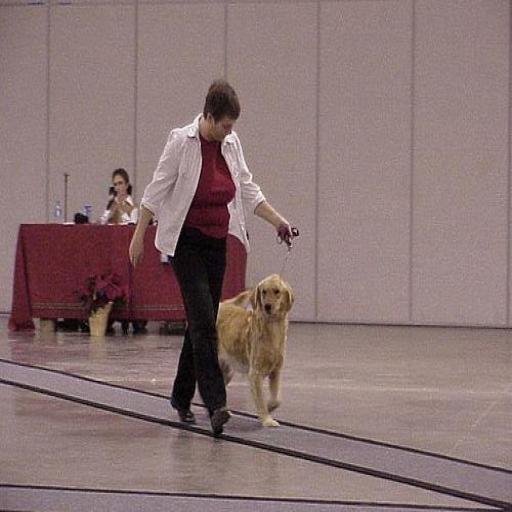dog_face: (251, 278, 297, 327)
